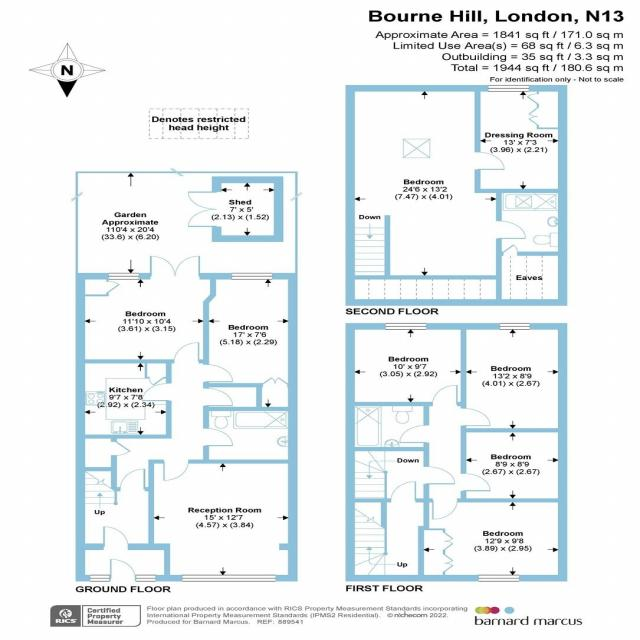DOOR: (423, 465, 456, 485), (431, 498, 460, 520), (119, 468, 146, 491), (203, 387, 234, 407), (203, 427, 234, 447), (460, 407, 491, 427), (398, 424, 429, 444), (389, 481, 417, 503), (141, 382, 172, 401), (496, 220, 527, 239), (475, 151, 505, 170), (173, 342, 200, 363), (432, 385, 459, 406), (203, 364, 234, 382), (460, 473, 491, 491), (163, 460, 189, 481)
DOUBLE DOOR: (148, 255, 203, 279)
ROOM: (148, 460, 298, 581), (75, 255, 216, 364), (203, 273, 297, 410), (423, 498, 568, 582), (460, 323, 568, 432), (475, 85, 568, 193), (345, 323, 466, 406), (460, 428, 568, 503)
WINDOW: (181, 574, 276, 582), (486, 84, 530, 92), (384, 322, 427, 330), (477, 574, 520, 582), (231, 272, 273, 280), (498, 322, 531, 330), (108, 272, 140, 280), (135, 574, 156, 582), (89, 574, 110, 582)
